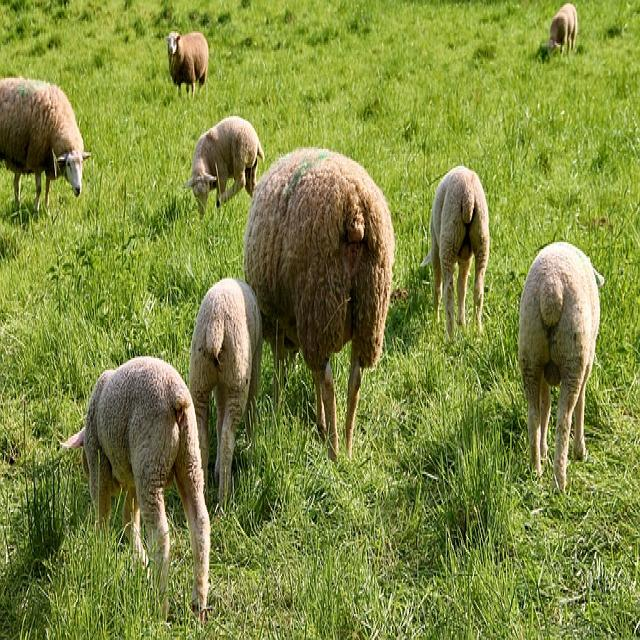sheep: (243, 145, 395, 462), (59, 353, 211, 626), (517, 238, 604, 494), (188, 275, 262, 512), (0, 75, 91, 216), (419, 164, 489, 341), (183, 114, 264, 218), (165, 29, 208, 97), (547, 2, 577, 55)
